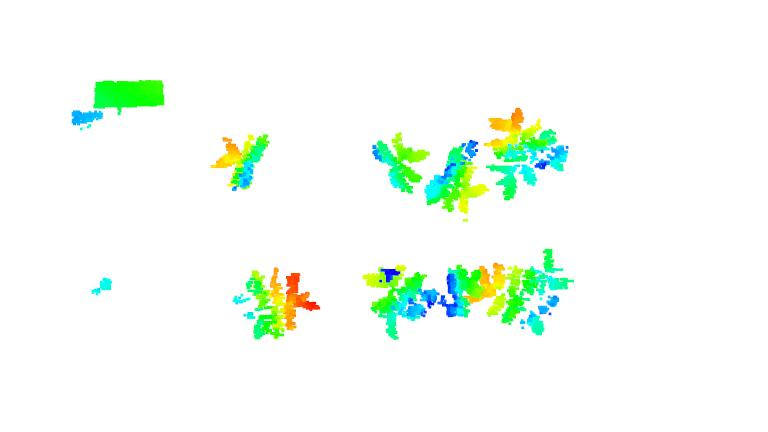chickpea: (469, 249, 576, 337), (488, 108, 571, 200), (235, 270, 322, 342), (364, 263, 435, 340), (426, 140, 491, 215), (211, 129, 271, 193), (370, 131, 426, 197), (437, 262, 483, 322)
